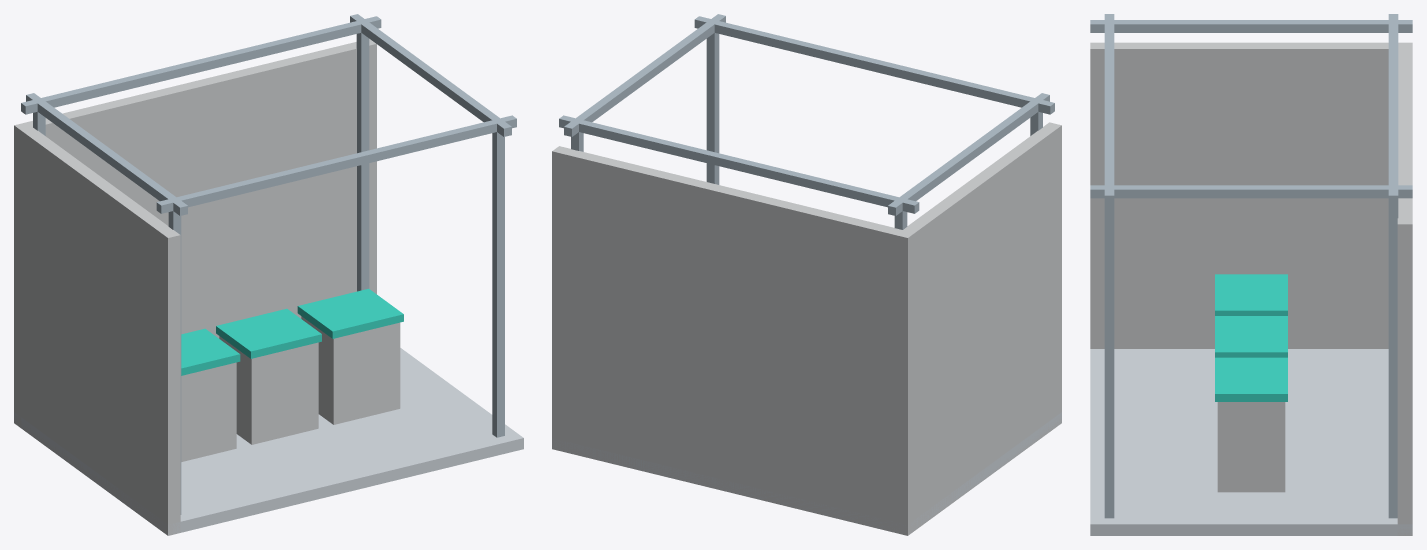
The picture shows the model from 3 angles, left to right: view 1: azimuth 30°, elevation 25°; view 2: azimuth 150°, elevation 25°; view 3: azimuth 270°, elevation 25°; orthographic projection. The views are drawn at different scales.
Visible parts, largest first — view 1: Exhibition Booth Concept; view 2: Exhibition Booth Concept; view 3: Exhibition Booth Concept.
Boxes of the visible parts, x1=… form: Exhibition Booth Concept: x1=14, y1=14, x2=523, y2=535; Exhibition Booth Concept: x1=552, y1=14, x2=1061, y2=535; Exhibition Booth Concept: x1=1090, y1=14, x2=1412, y2=535.
Bounding box in the file's own units: 4 × 3.49 × 3.
